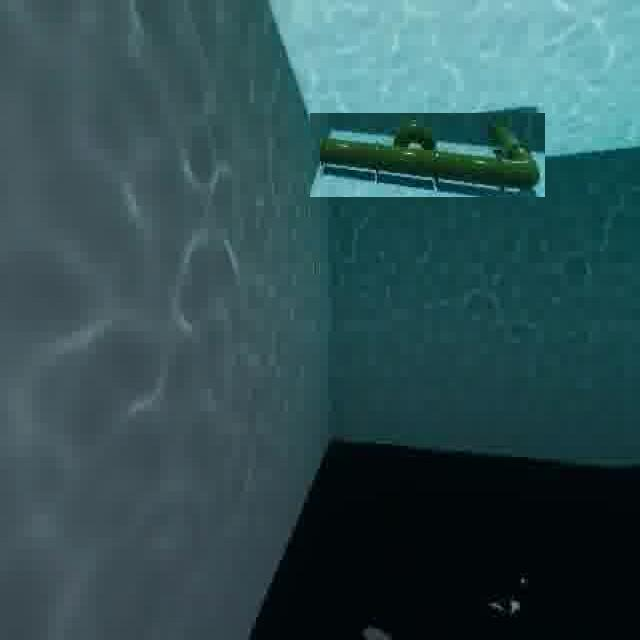Pipe: (310, 113, 545, 197)
